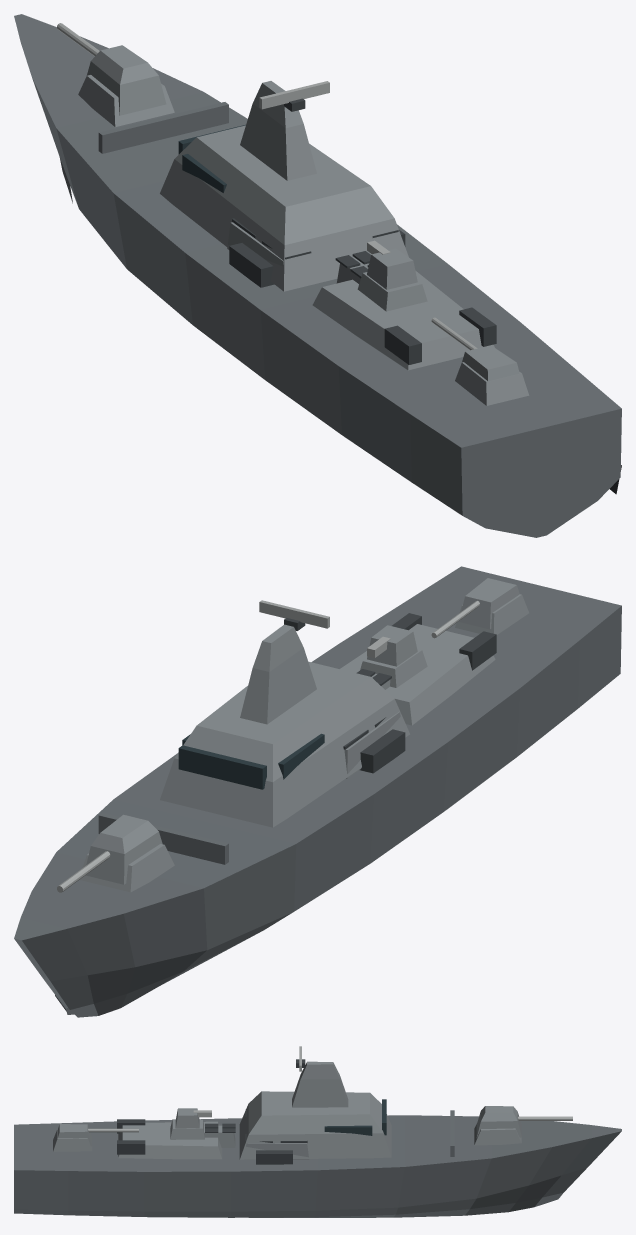
File: tern.glb
3 views of the same model, one above another, from view 1: azimuth 30°, elevation 25°; view 2: azimuth 150°, elevation 25°; view 3: azimuth 270°, elevation 25° (orthographic). The views are drawn at different scales.
Parts seen in each view (by area): view 1: stern, mid, bridge, bow, engine, radar, GunHouse, gun, aft_gun, CiwsDrum, ciws, AftGunHouse (+2 smaller); view 2: mid, stern, bow, bridge, engine, radar, GunHouse, AftGunHouse, gun, CiwsDrum, aft_gun, ciws (+2 smaller); view 3: mid, stern, bow, bridge, engine, radar, GunHouse, gun, launcher_starboard, aft_gun, AftGunHouse, ciws (+3 smaller).
Boxes of the visible parts, box(x1,y1,x2,y2) form: stern: box(229, 230, 621, 537); mid: box(56, 92, 621, 494); bridge: box(160, 124, 408, 291); bow: box(14, 14, 228, 206); engine: box(312, 270, 494, 370); radar: box(240, 81, 316, 180); GunHouse: box(87, 45, 166, 115); gun: box(78, 75, 174, 126); aft_gun: box(455, 362, 529, 405); CiwsDrum: box(367, 248, 417, 289); ciws: box(357, 272, 427, 311); AftGunHouse: box(462, 345, 519, 381); mid: box(55, 732, 448, 1013); stern: box(311, 566, 621, 811); bow: box(14, 812, 228, 1017); bridge: box(160, 661, 409, 827); engine: box(340, 624, 495, 725); radar: box(240, 624, 316, 724); GunHouse: box(85, 814, 162, 884); AftGunHouse: box(459, 578, 519, 629); gun: box(79, 844, 174, 892); CiwsDrum: box(367, 625, 417, 666); aft_gun: box(455, 594, 528, 634); ciws: box(360, 649, 427, 687); mid: box(231, 1115, 491, 1217); stern: box(14, 1118, 292, 1217); bow: box(450, 1110, 621, 1215); bridge: box(239, 1091, 391, 1159); engine: box(118, 1121, 222, 1159); radar: box(292, 1061, 348, 1107); GunHouse: box(476, 1106, 521, 1137); gun: box(474, 1124, 521, 1145); launcher_starboard: box(244, 1143, 309, 1159); aft_gun: box(53, 1129, 92, 1151); AftGunHouse: box(57, 1124, 92, 1146); ciws: box(170, 1119, 204, 1139).
Size of the model in its own units: 5.84 by 8.16 by 28.
